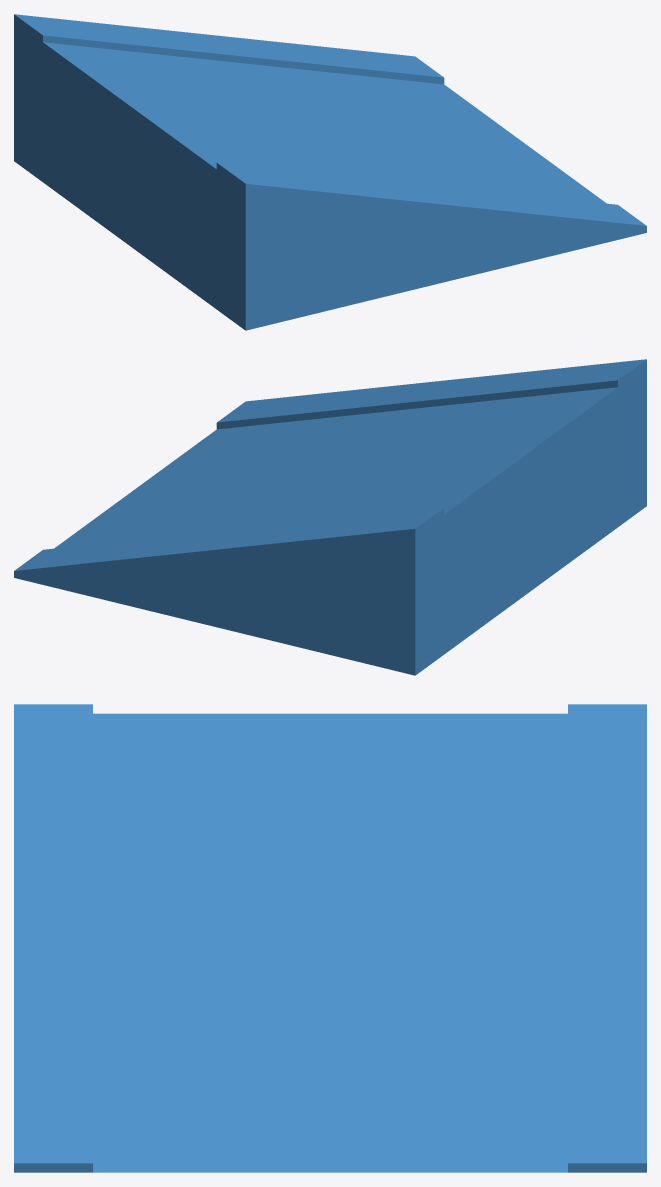
File: Road_Incline.fbx
3 views of the same model, one above another, from view 1: azimuth 30°, elevation 25°; view 2: azimuth 150°, elevation 25°; view 3: azimuth 270°, elevation 25° (orthographic). The views are drawn at different scales.
Visible parts, largest first — view 1: Road_Incline; view 2: Road_Incline; view 3: Road_Incline.
Boxes of the visible parts, x1,y1,x2,y2 form: Road_Incline: (14,14,646,330); Road_Incline: (14,359,646,675); Road_Incline: (14,704,646,1172).
Bounding box in the file's own units: 900 × 315 × 900.
